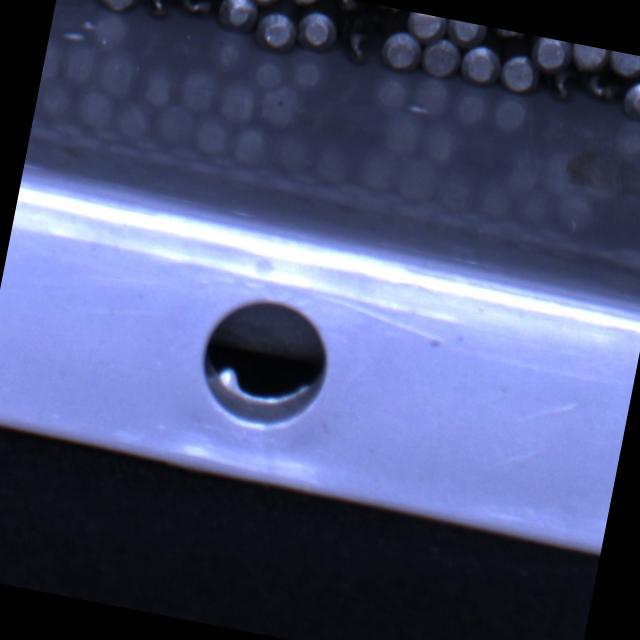tool: (294, 8, 339, 56), (458, 42, 503, 88), (380, 29, 425, 74), (252, 8, 298, 52), (419, 36, 464, 80), (498, 51, 540, 96), (214, 0, 260, 36), (530, 36, 574, 73), (405, 12, 448, 44), (443, 19, 487, 49), (568, 43, 610, 74), (604, 50, 640, 80), (619, 77, 640, 124), (96, 0, 142, 14), (280, 0, 324, 8), (242, 0, 285, 6)
tool_b: (335, 9, 388, 68), (580, 68, 624, 108), (544, 64, 583, 104), (177, 0, 219, 24), (135, 0, 178, 19), (324, 0, 368, 16)
